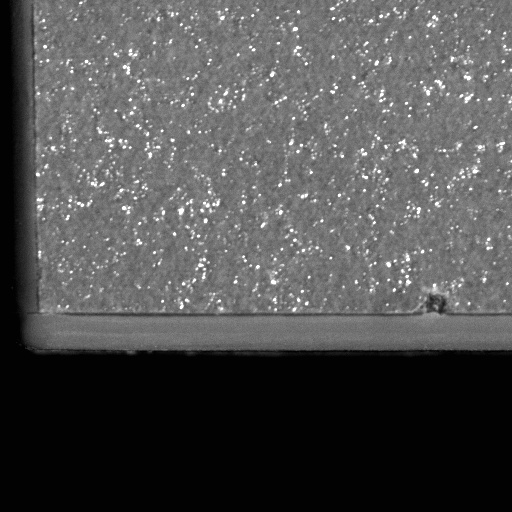bengque: (416, 289, 453, 320)
